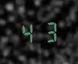four: (19, 21, 38, 44)
three: (39, 19, 58, 42)
